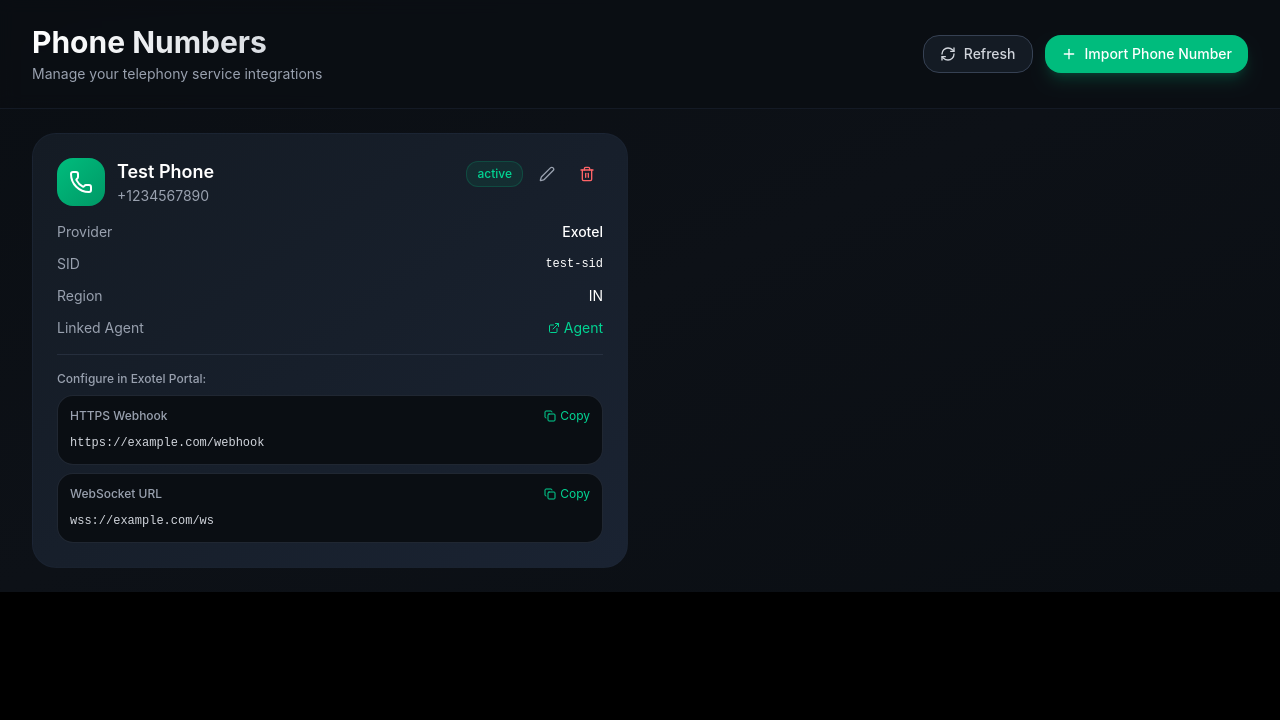
it: PhoneNumbersTable › copies webhook URL to clipboard
This screenshot has width=1280, height=720.
Expected: the heading "Test Phone" is shown, [117,158,214,186]
Click the button "Copy" in the row of "HTTPS Webhook".
click(567, 416)  # box [544,408,590,424]
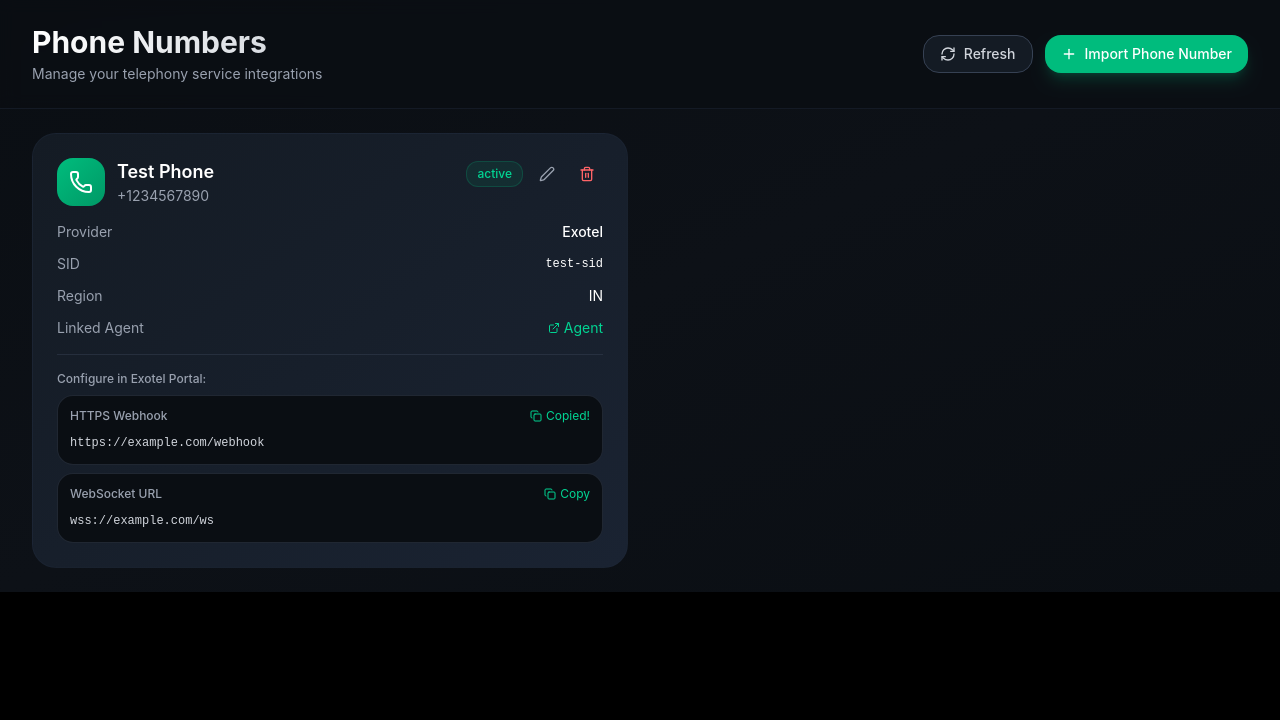
Now the button "Copied!" is shown, box [530,408,590,424]
